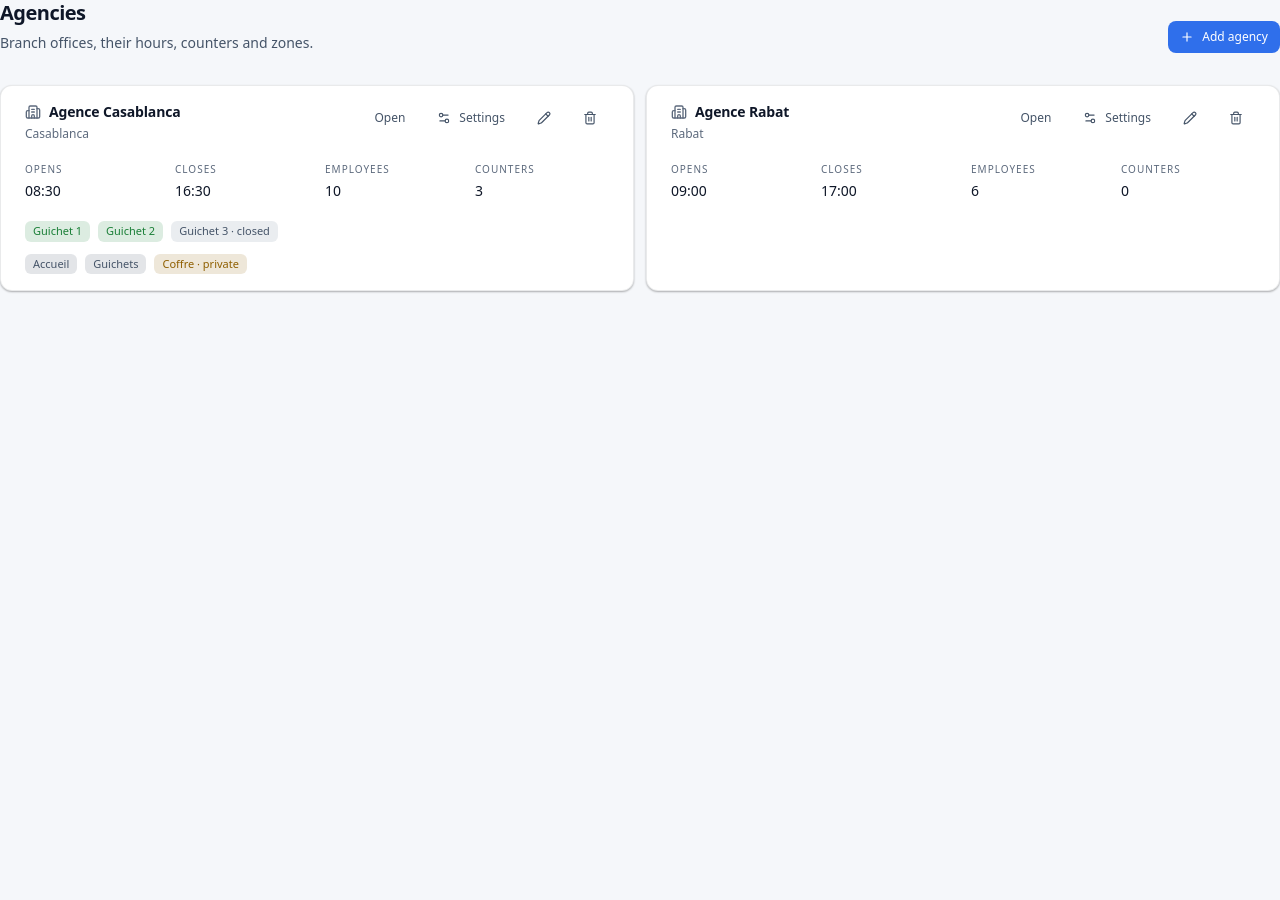
Test case: Agencies › delete confirmation › names what this specific delete destroys
Expected: the heading "Agence Casablanca" is shown, left=49, top=102, right=180, bottom=122
Step 1. Click the button named "delete agence casablanca" → (590, 118), box left=571, top=102, right=609, bottom=134
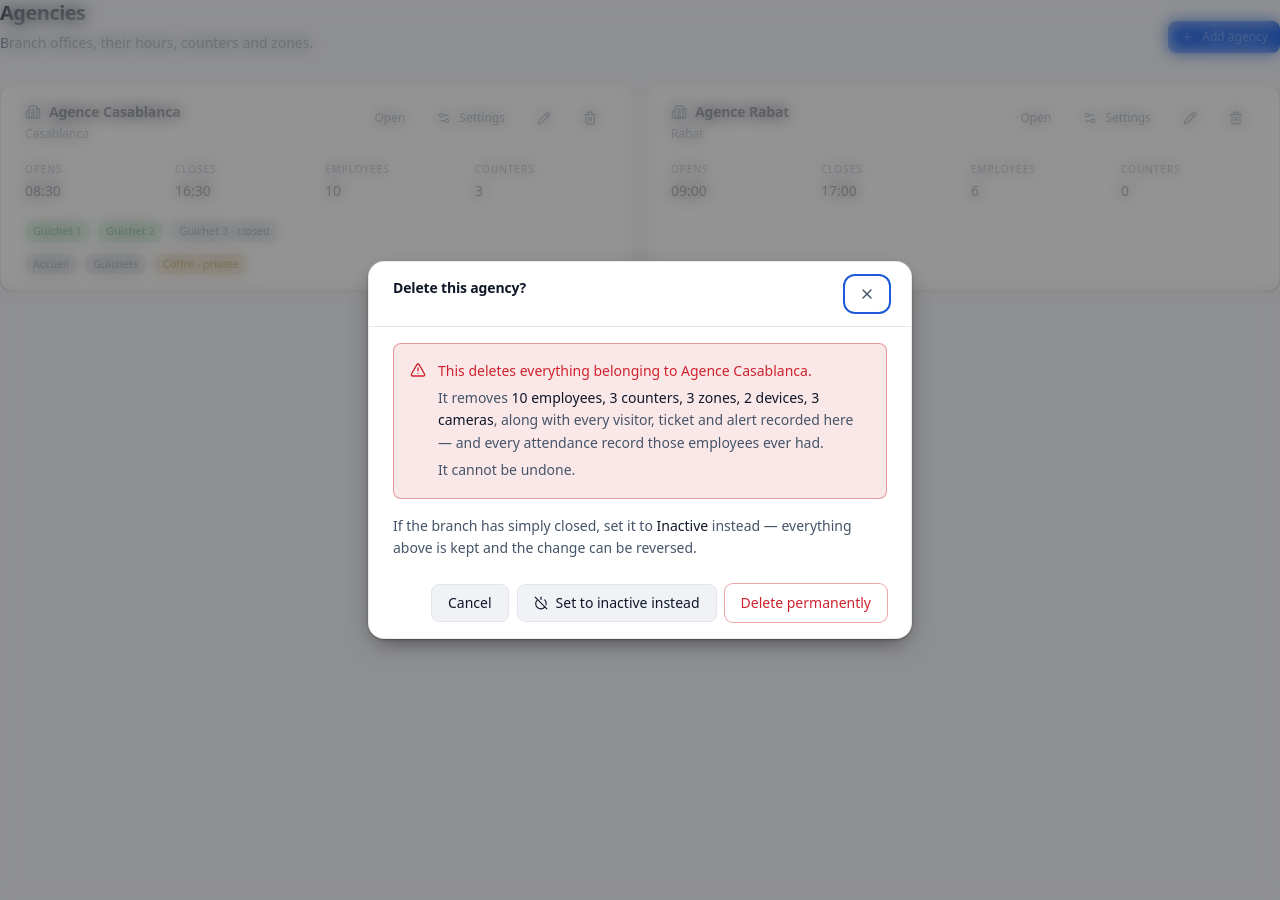
Expected: the text "10 employees, 3 counters, 3 zones, 2 devices, 3 cameras" is shown, left=438, top=388, right=819, bottom=429
